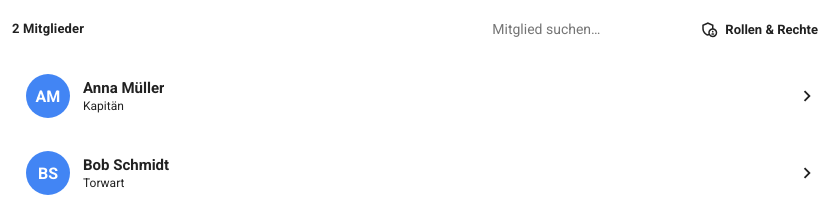
Scenario: MembersPage › filters members by role name
The width and height of the screenshot is (835, 212).
In the search field with placeholder "Mitglied suchen…": [578, 29] box [478,13,678,45], type "Kapitän"
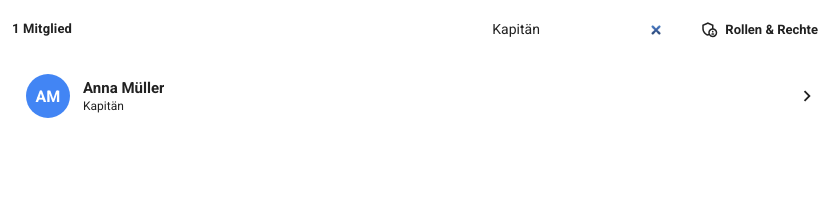
expect the text "Anna Müller" is shown: met, box [83,79,164,97]
expect the button "Bob Schmidt" is gone: met
